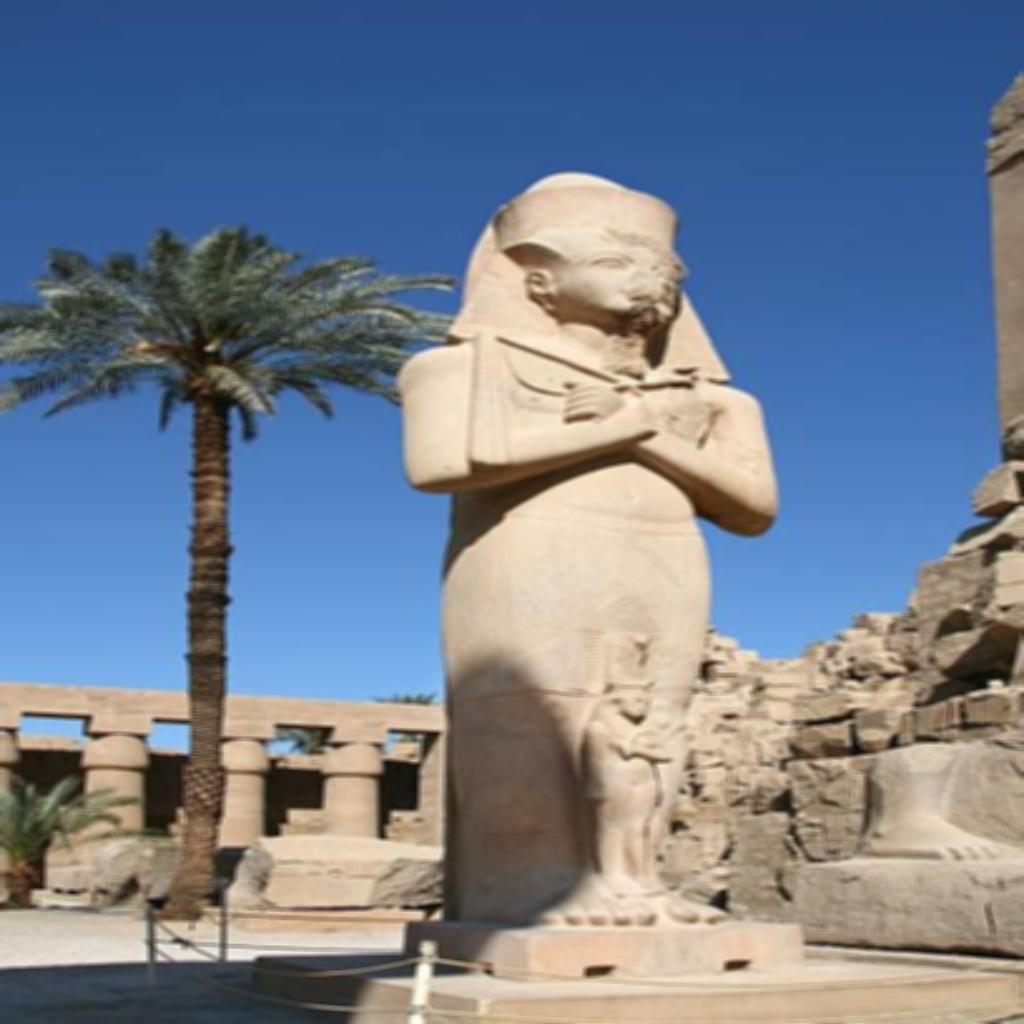Standing Statue of King Ramses II: (392, 169, 784, 934)
